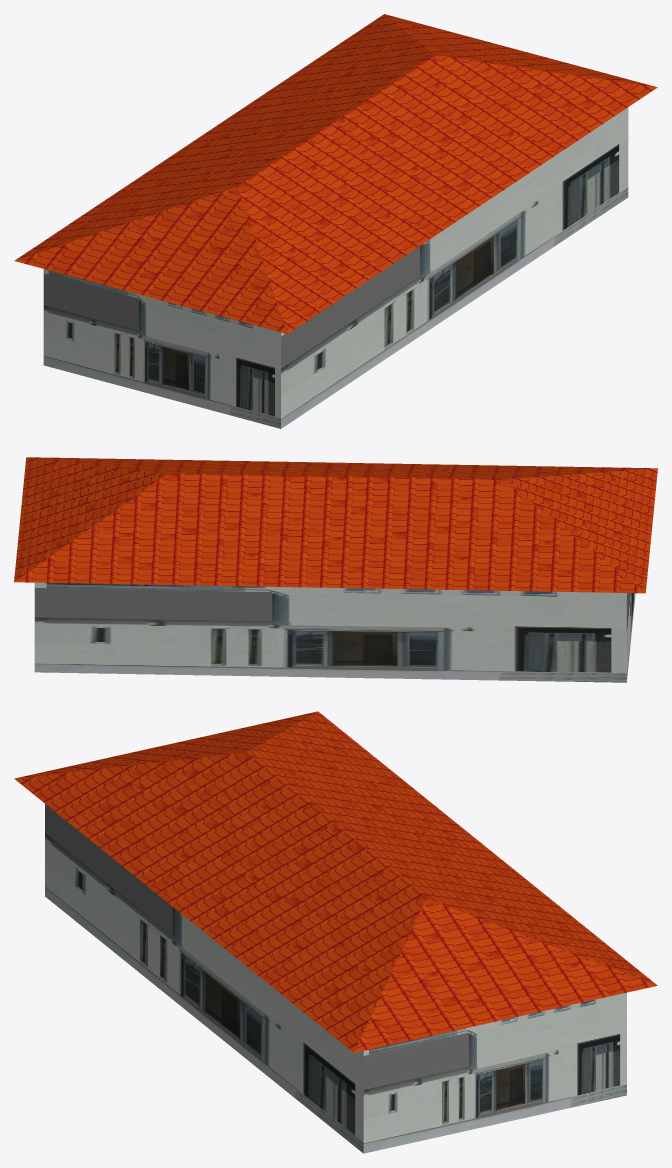
The picture shows the model from 3 angles, top to bottom: view 1: azimuth 30°, elevation 25°; view 2: azimuth 150°, elevation 25°; view 3: azimuth 270°, elevation 25°; orthographic projection. The views are drawn at different scales.
Parts seen in each view (by area): view 1: CityEngineMaterial_12_m, CityEngineMaterial_11_m; view 2: CityEngineMaterial_12_m, CityEngineMaterial_11_m; view 3: CityEngineMaterial_12_m, CityEngineMaterial_11_m.
Boxes of the visible parts, x1,y1,x2,y2 form: CityEngineMaterial_12_m: (14, 14, 657, 333); CityEngineMaterial_11_m: (43, 107, 628, 428); CityEngineMaterial_12_m: (14, 457, 657, 593); CityEngineMaterial_11_m: (34, 582, 635, 682); CityEngineMaterial_12_m: (14, 711, 657, 1052); CityEngineMaterial_11_m: (45, 804, 626, 1153).
Bounding box in the file's own units: 33.2 × 7.72 × 26.44.
